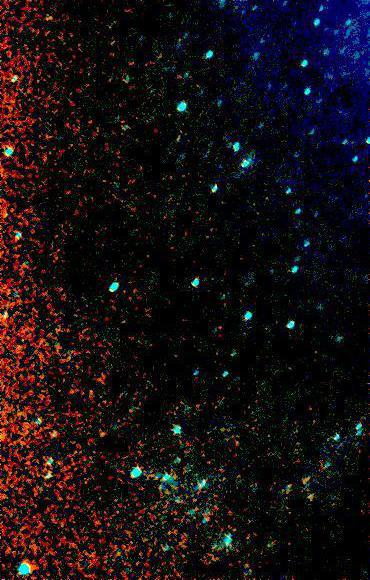star: (92, 418, 122, 448)
